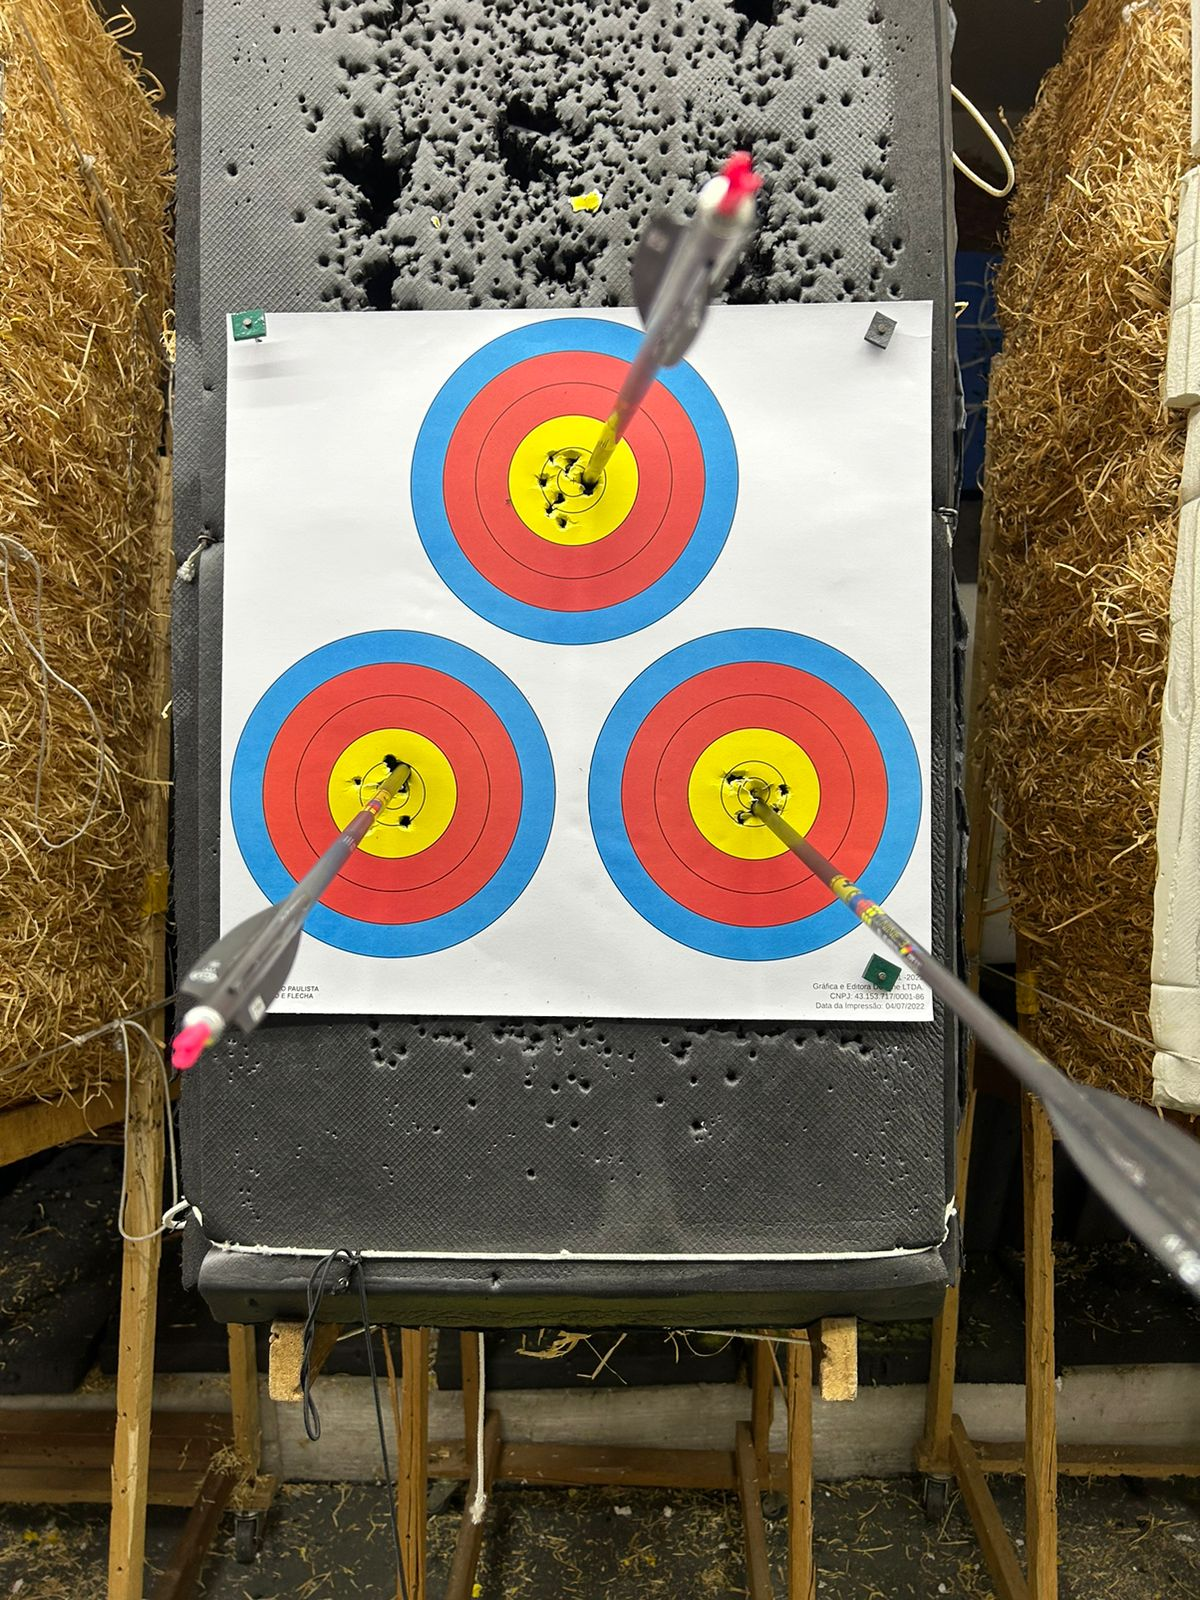10: (614, 616, 976, 1007), (407, 329, 758, 616)
9 linha 10: (222, 629, 601, 999)
